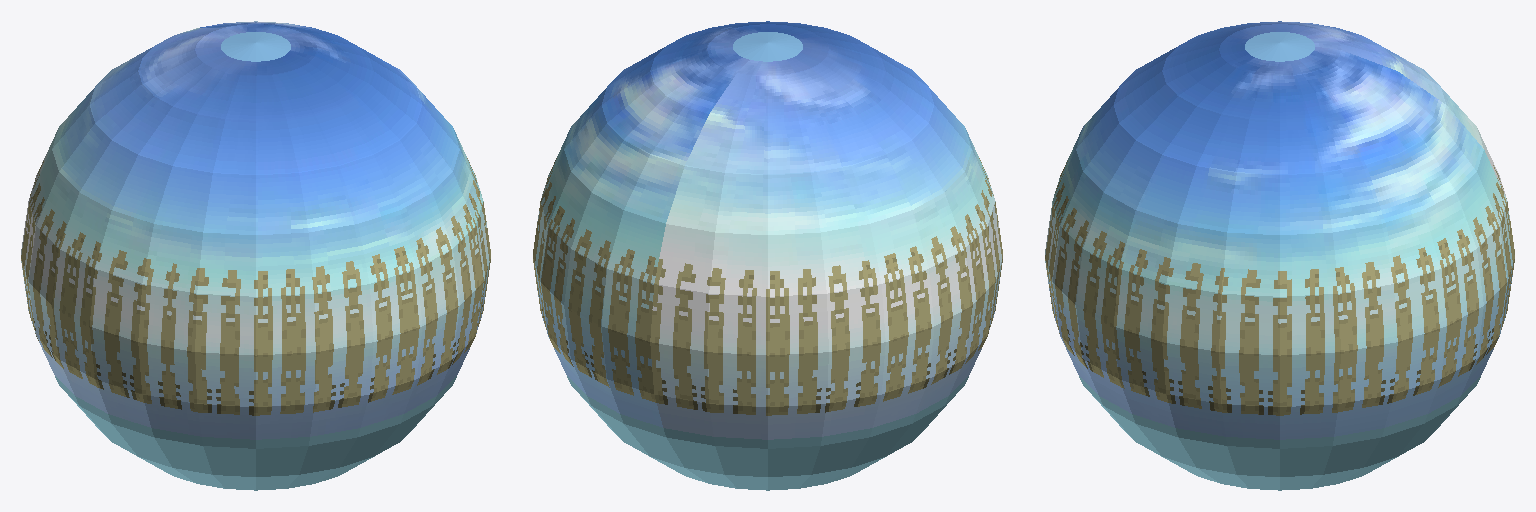
The picture shows the model from 3 angles: view 1: azimuth 30°, elevation 25°; view 2: azimuth 150°, elevation 25°; view 3: azimuth 270°, elevation 25°; orthographic projection.
Parts seen in each view (by area): view 1: Sphere001; view 2: Sphere001; view 3: Sphere001.
Boxes of the visible parts, <box> form: Sphere001: <box>21,21,490,490</box>; Sphere001: <box>533,21,1002,490</box>; Sphere001: <box>1045,21,1514,490</box>.
Bounding box in the file's own units: 200 × 200 × 200.
Materials: 1 (1 with a texture image).